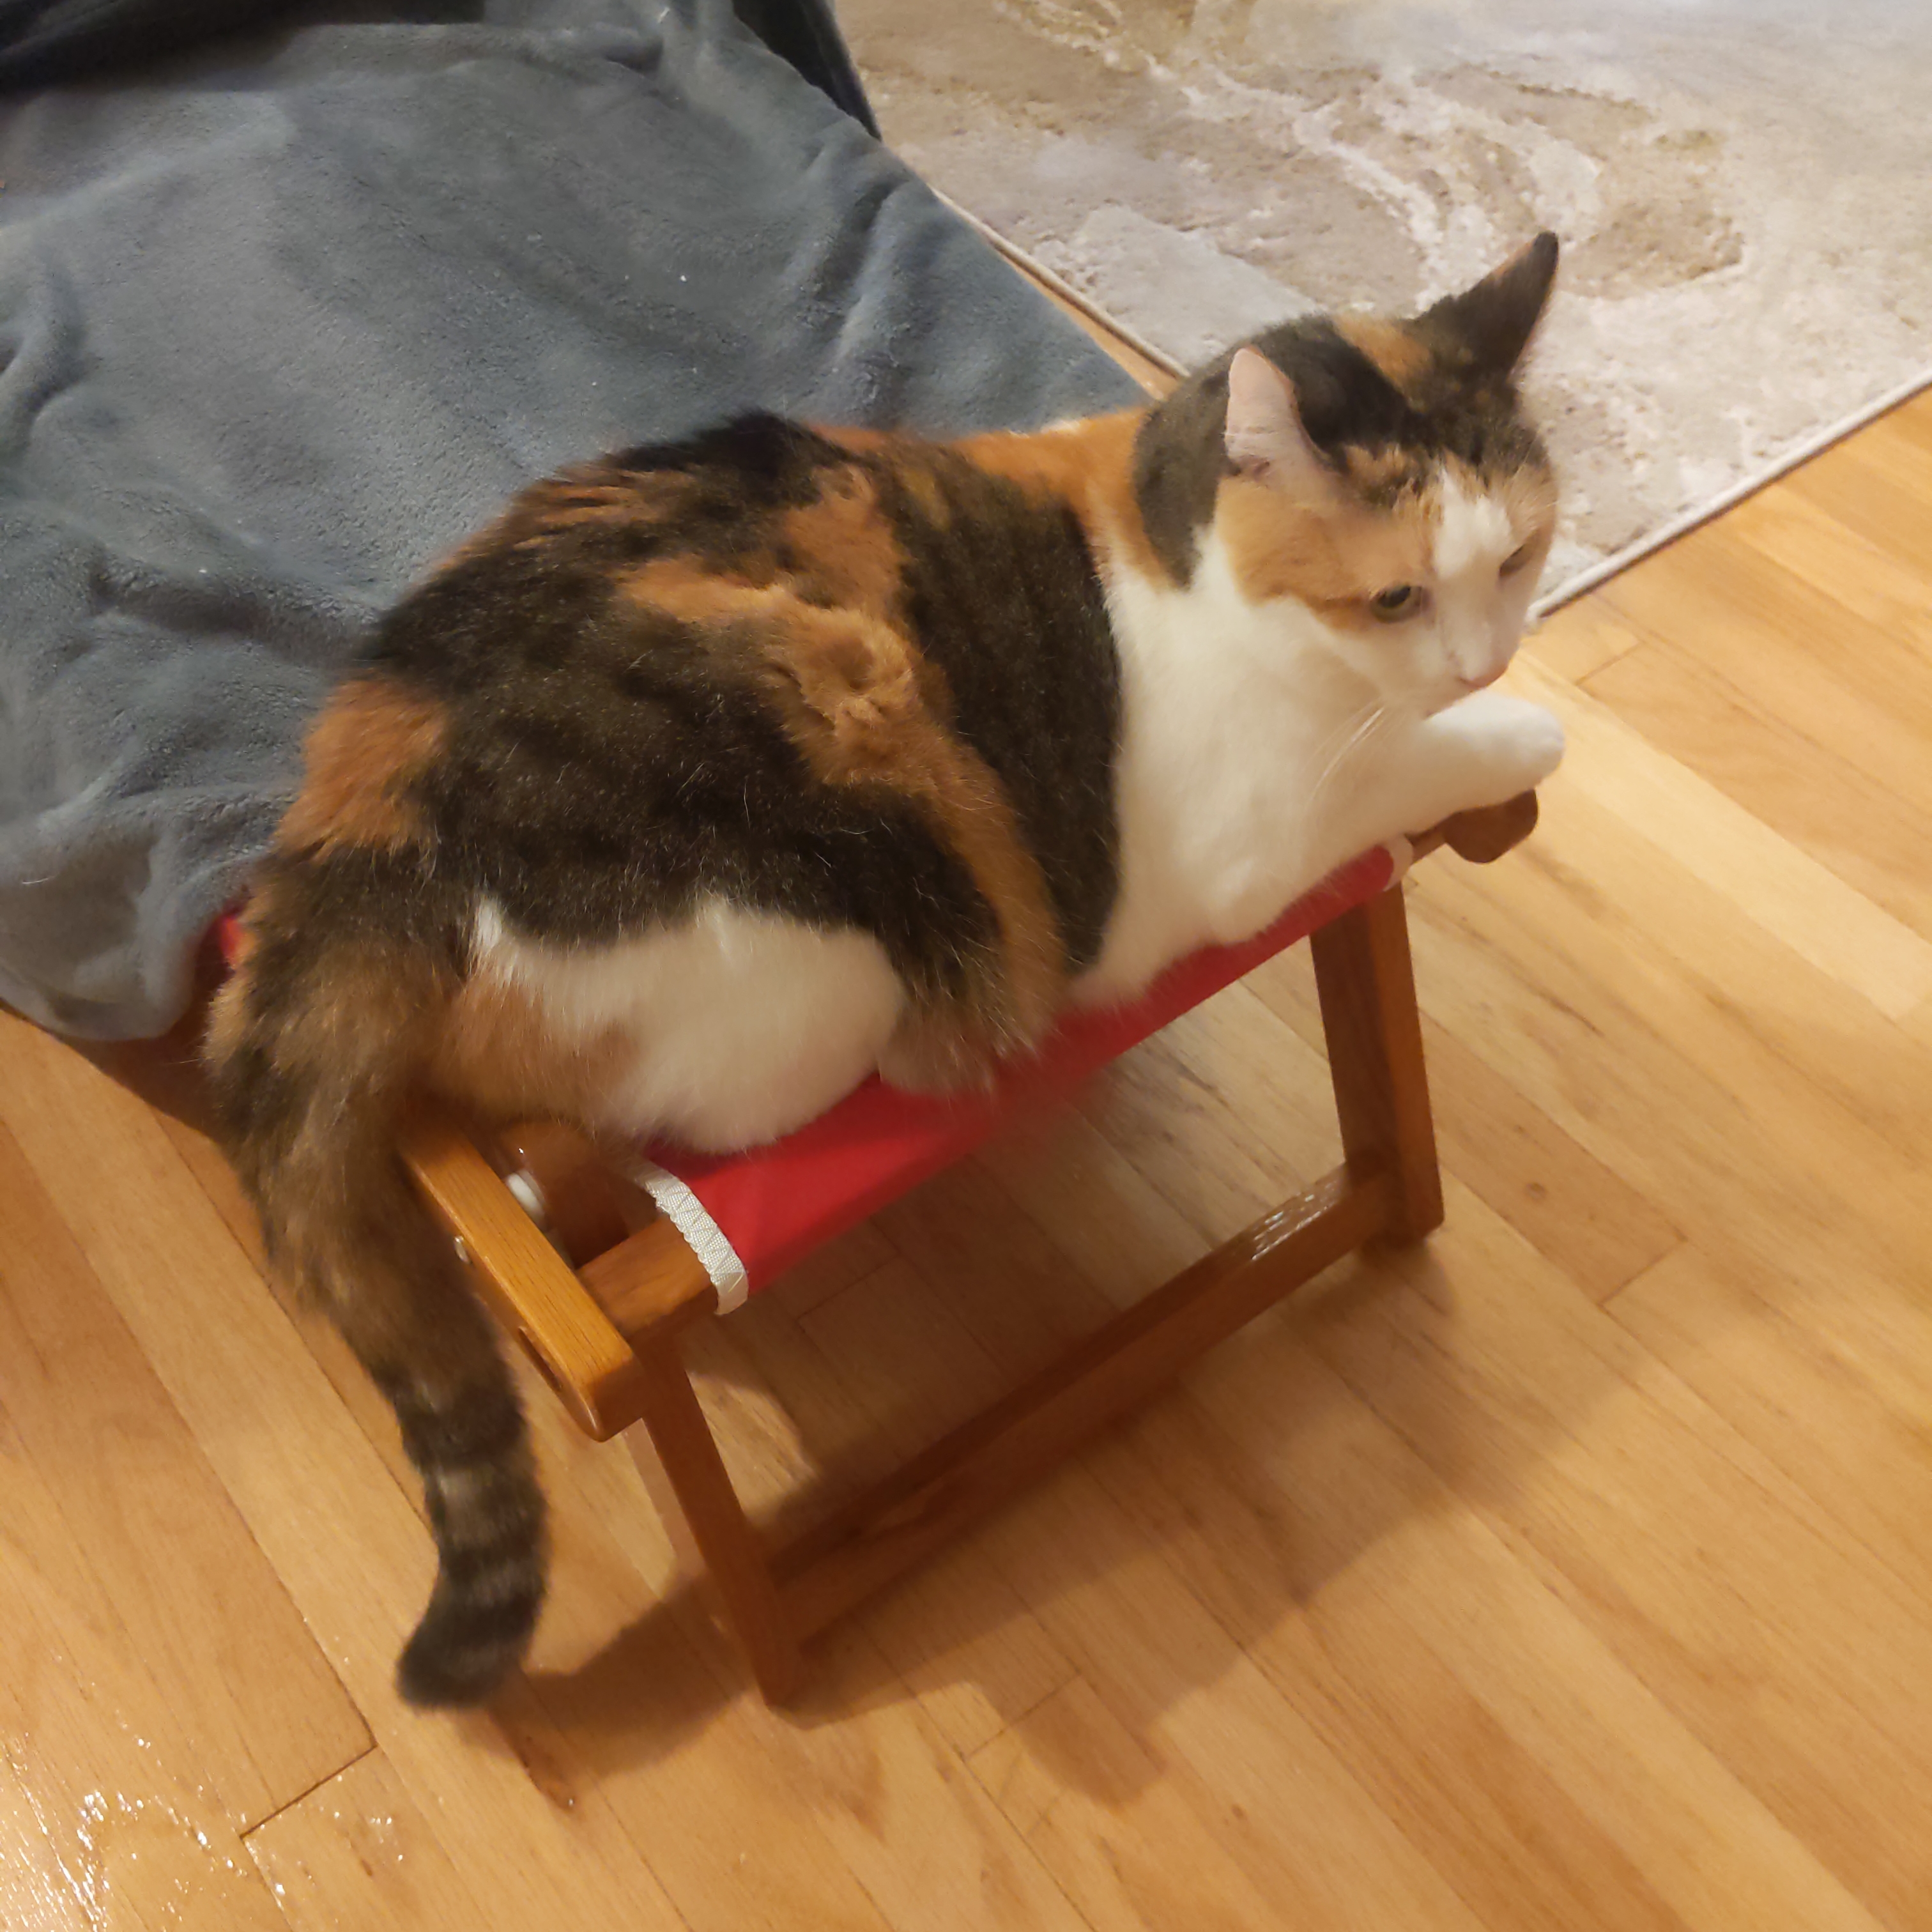Calico: (203, 232, 1569, 1706)
